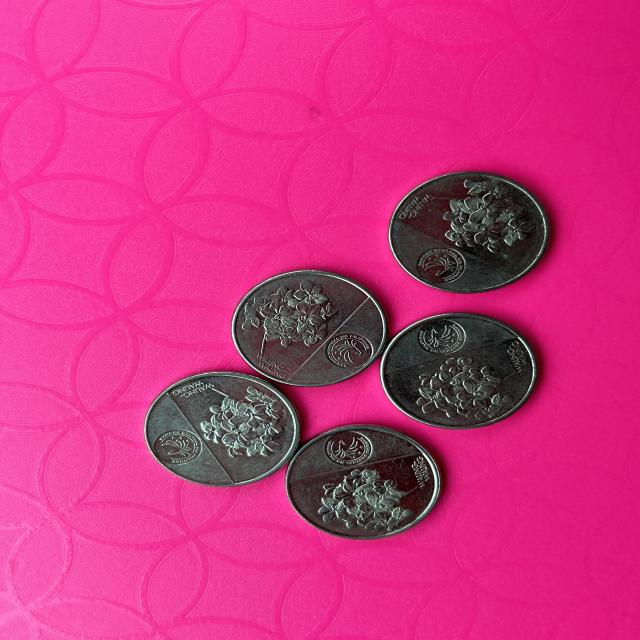1_New_Back: (188, 376, 292, 457), (434, 175, 532, 256), (413, 352, 515, 422), (308, 477, 434, 532), (244, 280, 339, 340)
